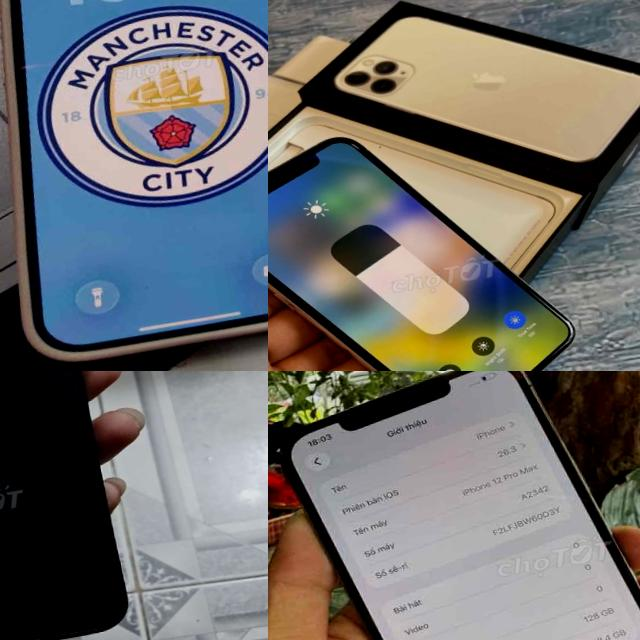gen_11: (268, 100, 594, 371)
gen_12_13: (282, 371, 640, 640), (0, 371, 139, 640)
gen_15: (0, 0, 268, 371)
